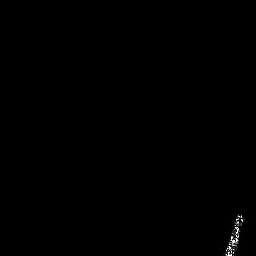ship: (224, 211, 245, 256)
